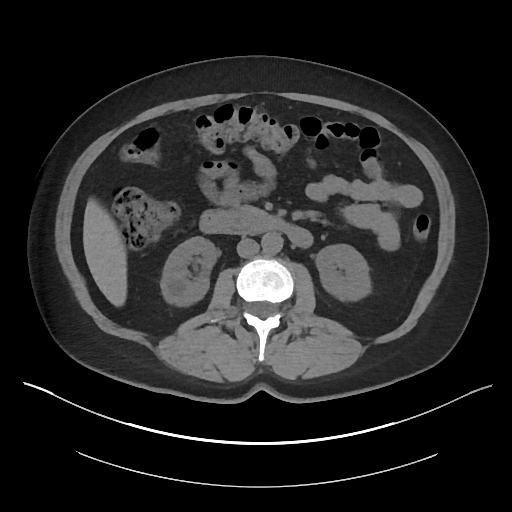Lesion: (166, 280, 187, 297)
